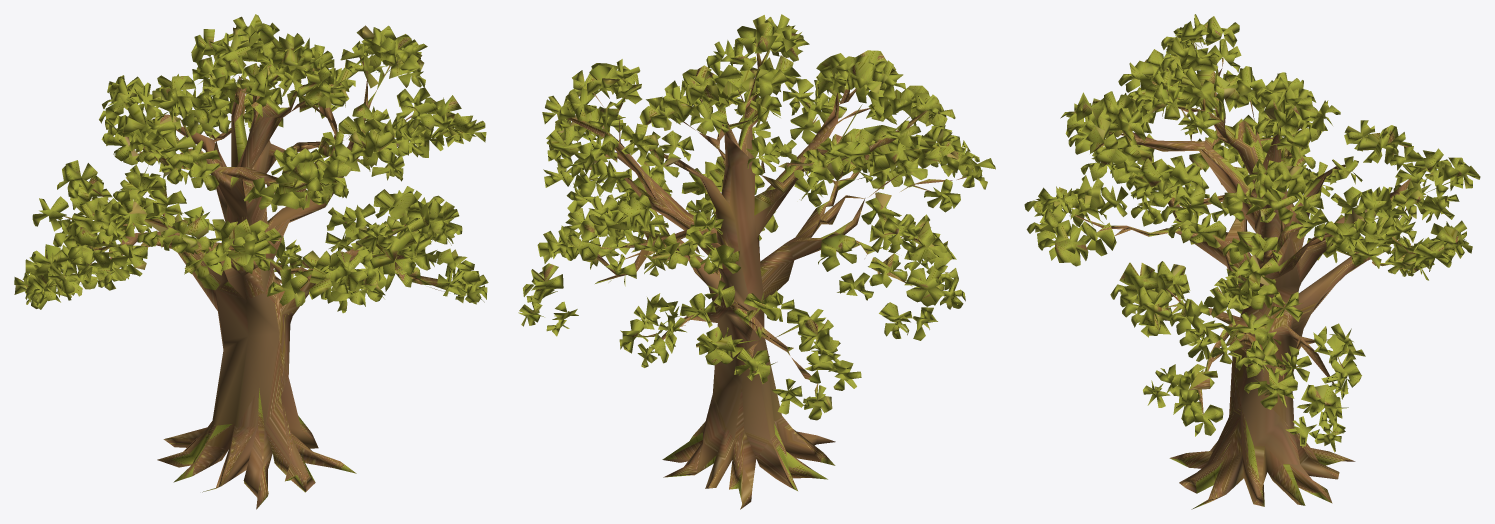
File: tree-9-far.glb
The picture shows the model from 3 angles, left to right: view 1: azimuth 30°, elevation 25°; view 2: azimuth 150°, elevation 25°; view 3: azimuth 270°, elevation 25°; orthographic projection. The views are drawn at different scales.
Size of the model in its own units: 0.9995 by 0.9507 by 0.9302.
1 material, 1 textured.
